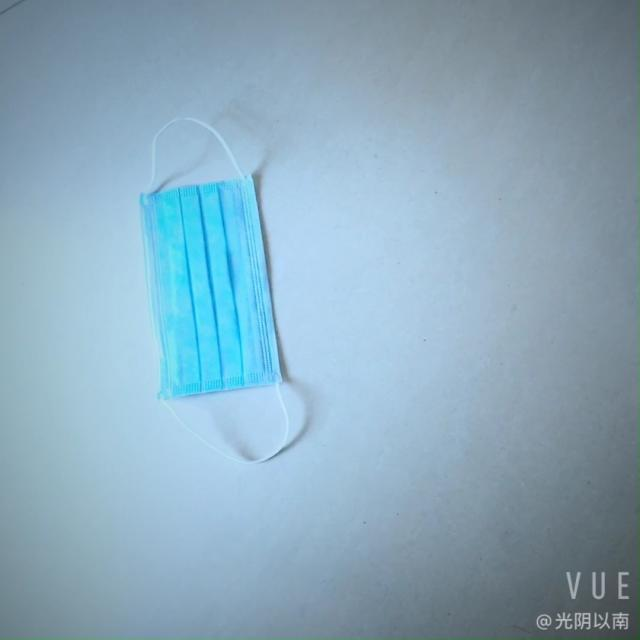face mask: (146, 159, 308, 414)
